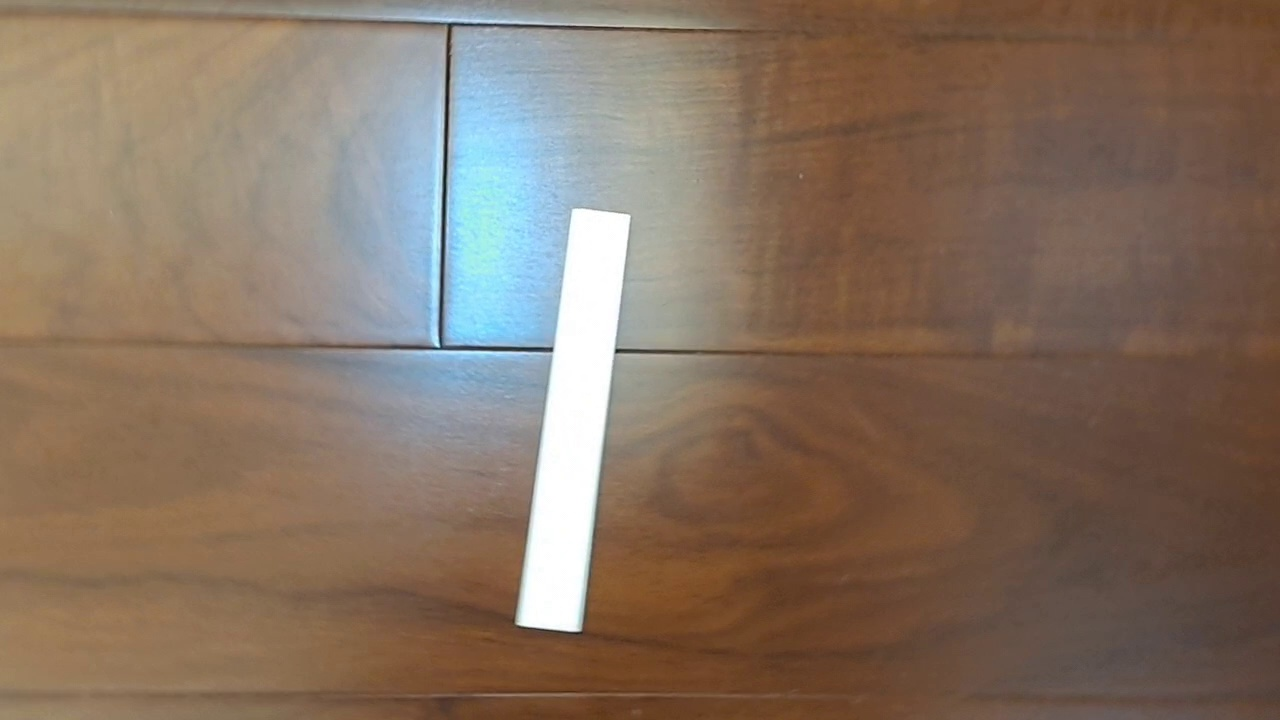ruler: (514, 206, 633, 635)
